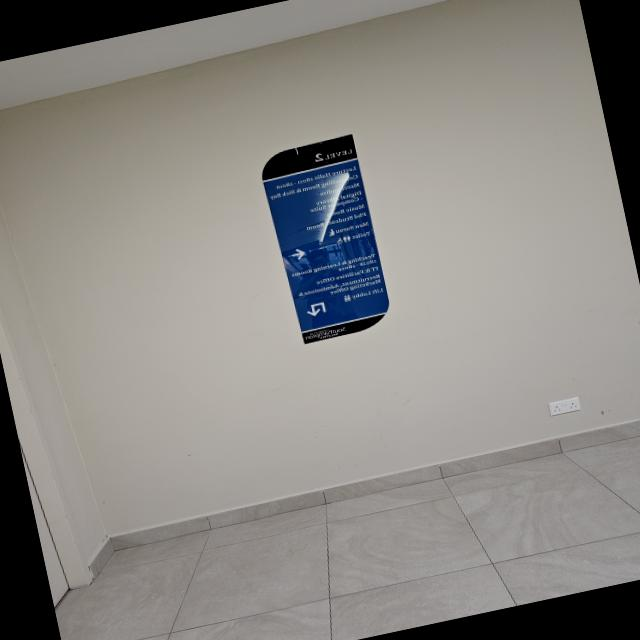footpath: (49, 453, 640, 640)
